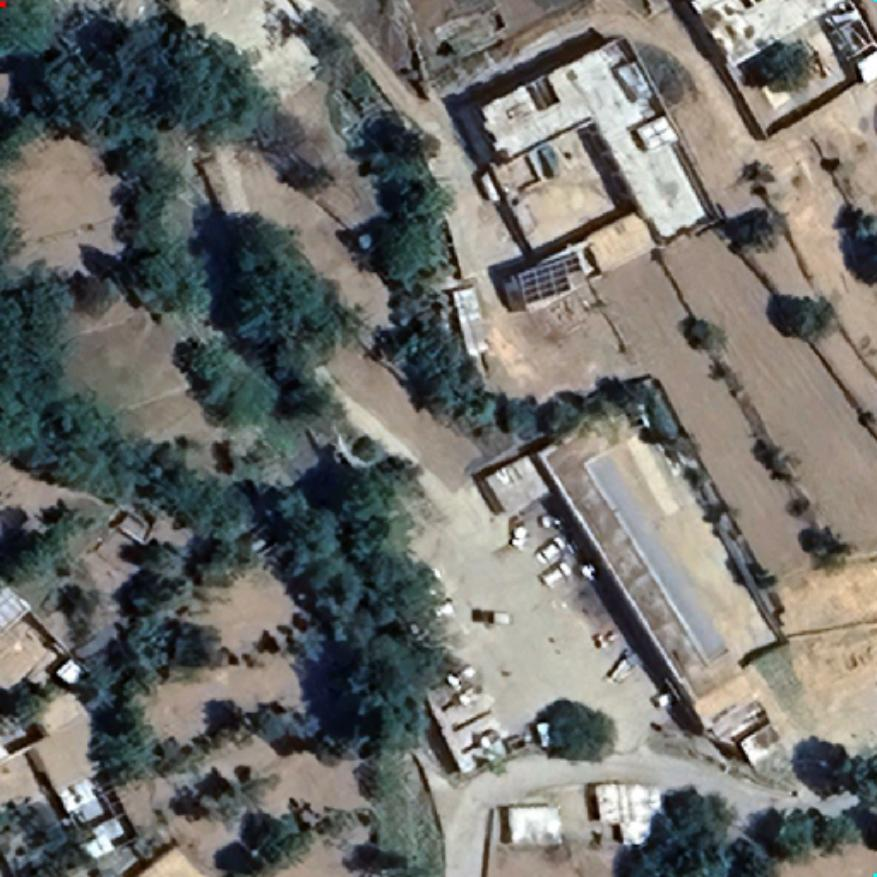Solarpanel: (516, 251, 584, 308)
